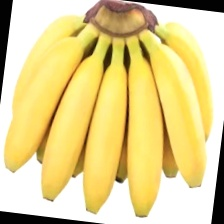banana: (20, 58, 178, 208)
